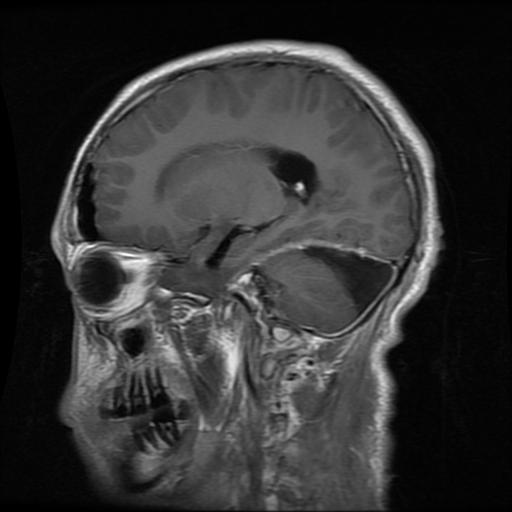Gliomia_tumour: (302, 247, 396, 315)
